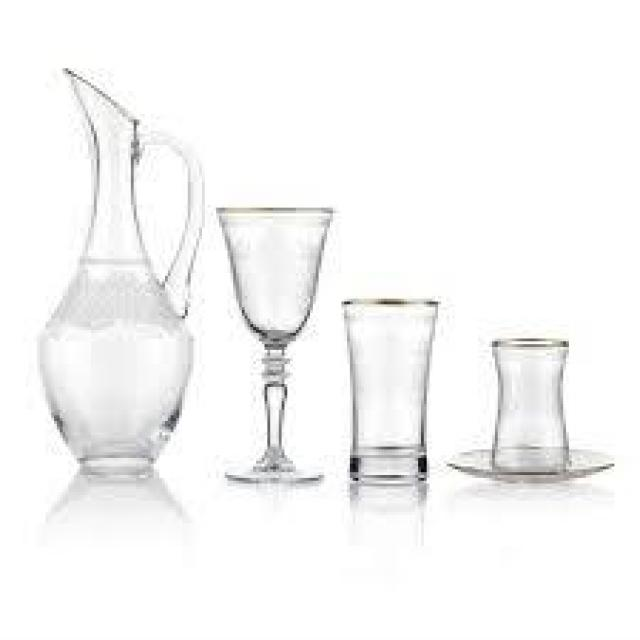non-organic waste: (31, 57, 208, 478), (210, 202, 338, 484), (446, 332, 614, 483), (334, 293, 442, 484)
